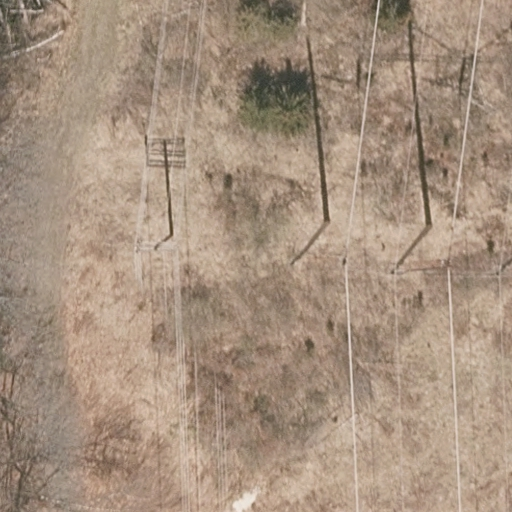DT: (132, 233, 177, 254)
TT: (341, 228, 512, 279)
